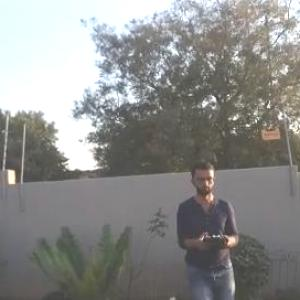follow: (170, 162, 244, 299)
